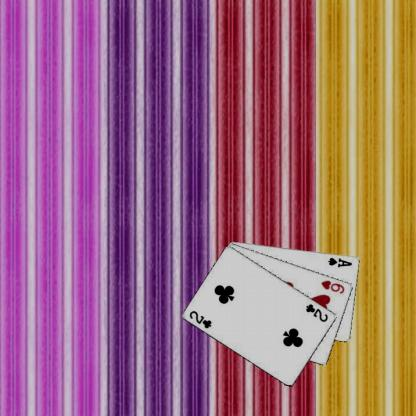2C: (304, 302, 330, 323), (187, 308, 213, 329)
6H: (319, 278, 346, 294)
AS: (326, 255, 353, 268)
